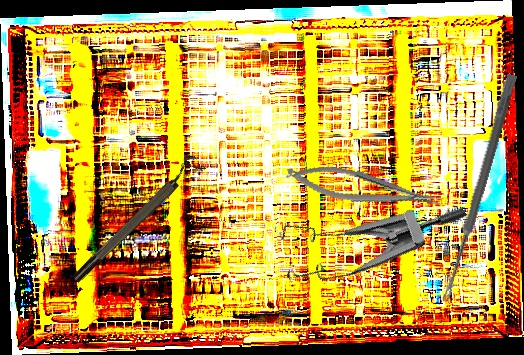Fixation Ring: (65, 151, 206, 286)
Needle Holder: (282, 154, 446, 223)
Speculum: (262, 138, 470, 319)
Surgical Spoon: (440, 72, 518, 304)
